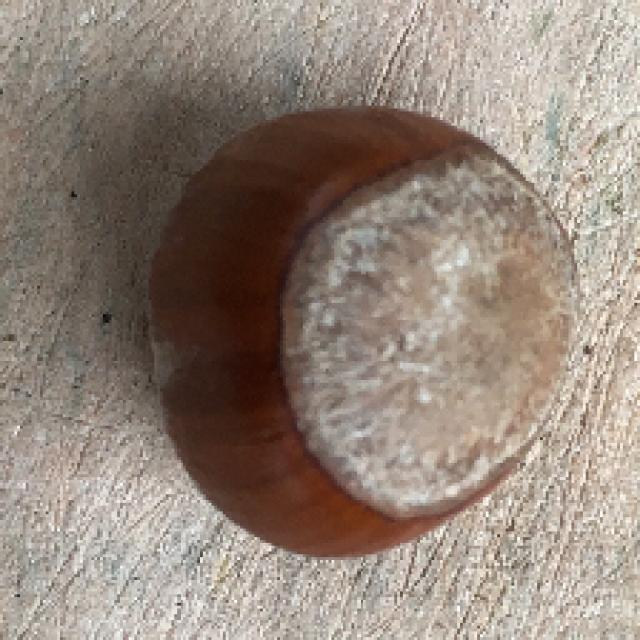qualityHazelnut: (150, 104, 582, 561)
